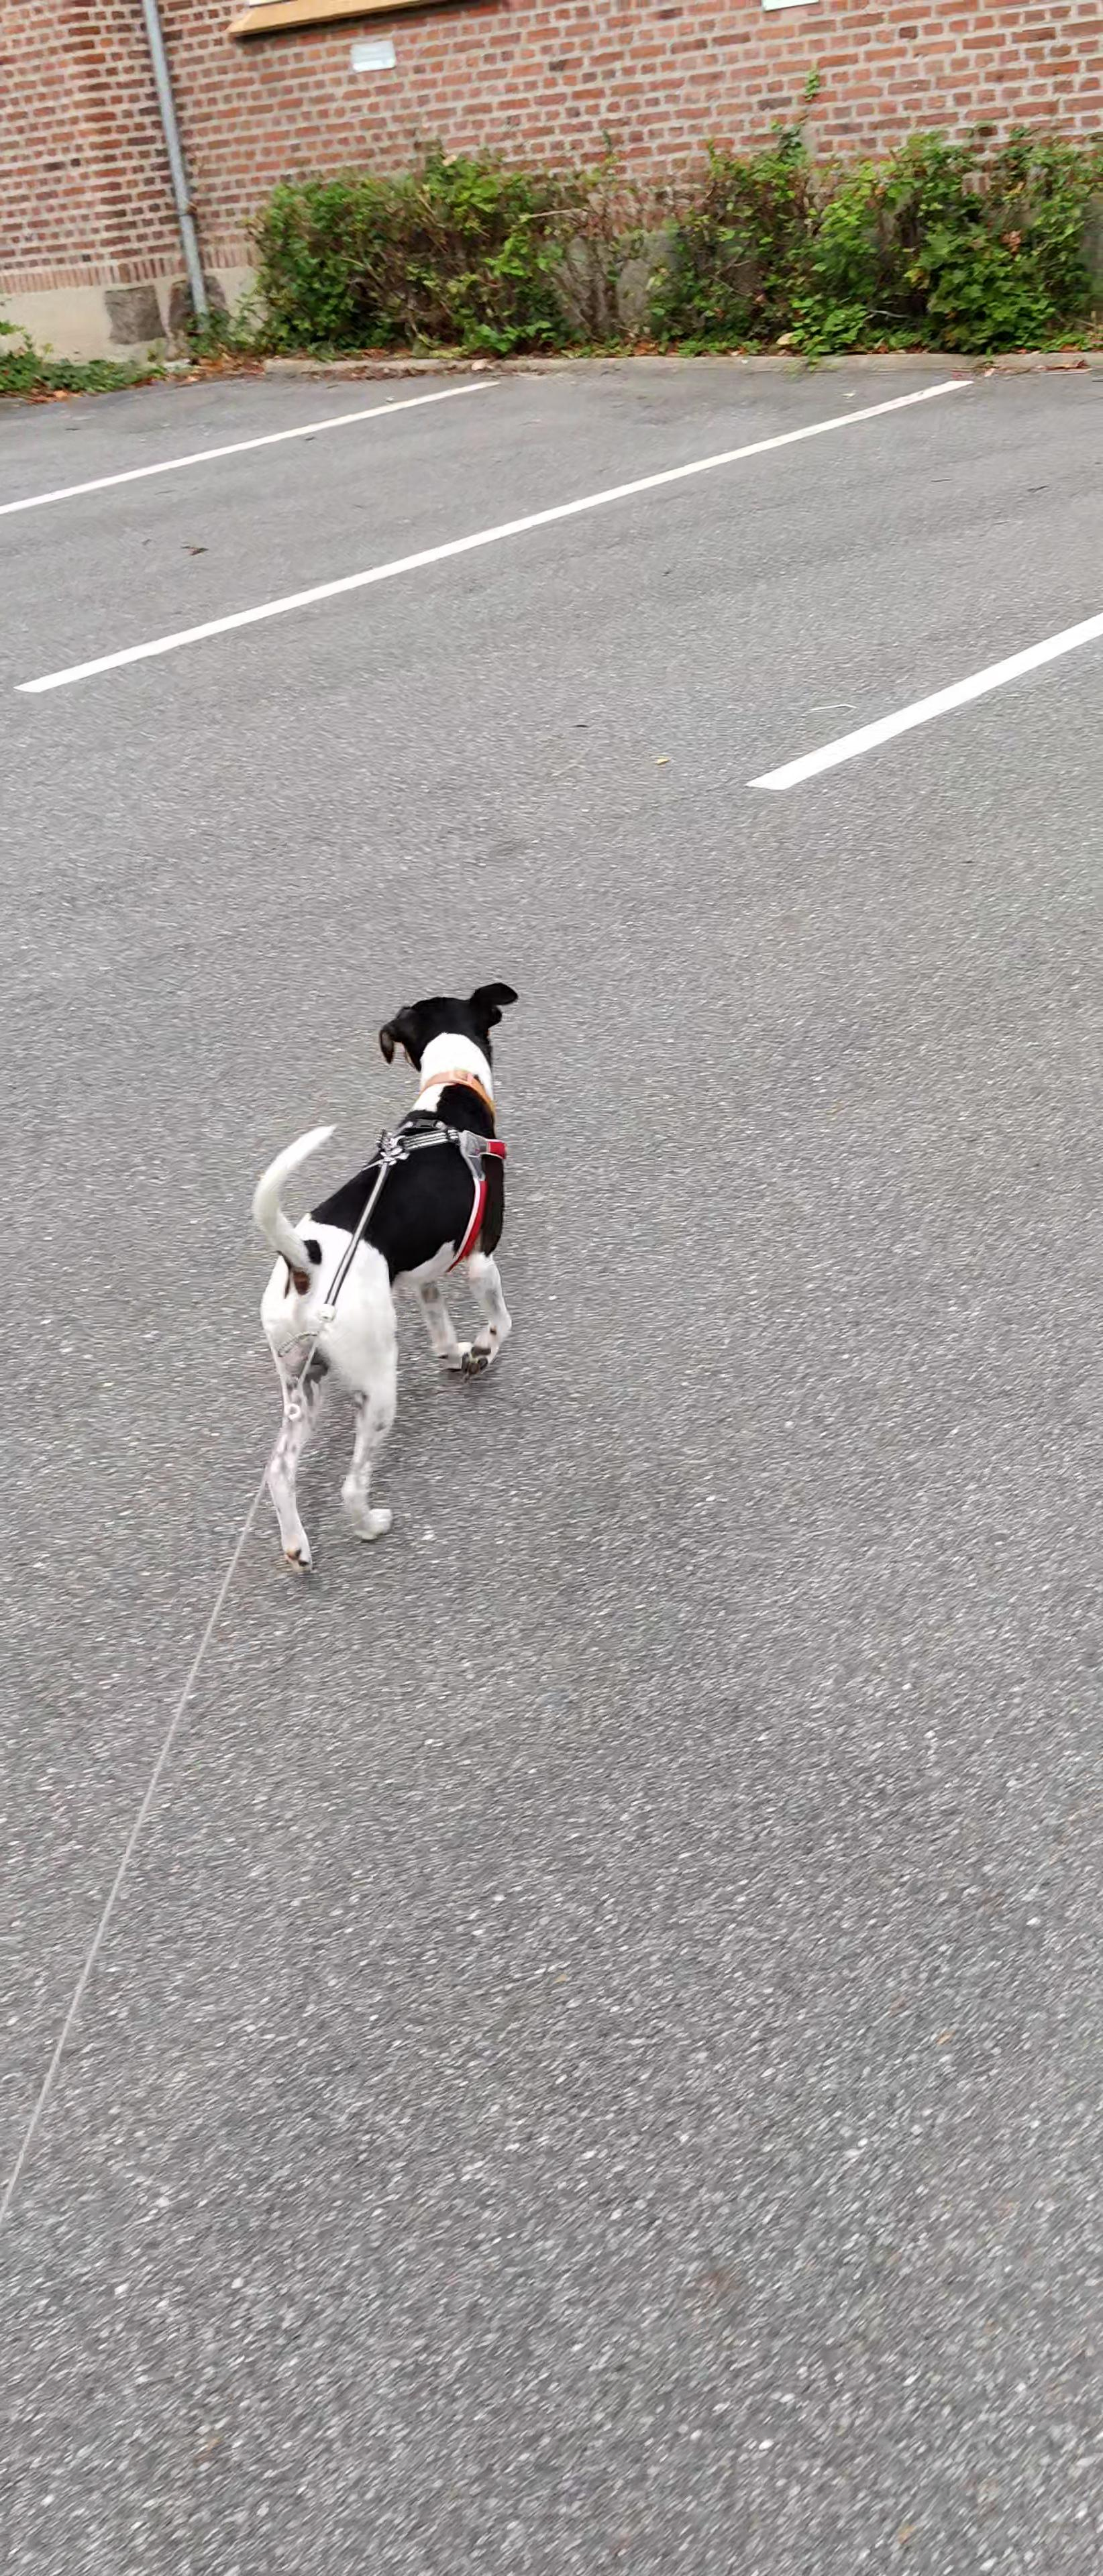Dog: (247, 977, 519, 1584)
